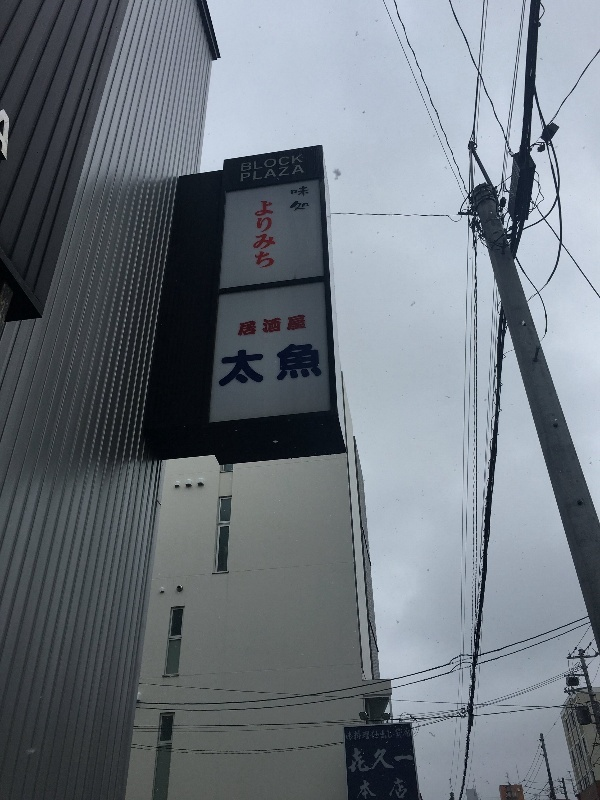text: (257, 195, 272, 273), (1, 102, 16, 159), (225, 336, 240, 391), (241, 336, 256, 391), (257, 336, 272, 391), (273, 336, 288, 391), (289, 336, 304, 391), (305, 336, 320, 391), (241, 310, 256, 341), (257, 310, 272, 341), (273, 310, 288, 341), (289, 310, 304, 341), (353, 745, 368, 776), (369, 745, 384, 776), (385, 745, 400, 776), (290, 183, 304, 216), (401, 745, 414, 776), (241, 152, 256, 176), (257, 152, 272, 176), (273, 152, 288, 176), (289, 152, 304, 176), (369, 776, 384, 800), (385, 776, 400, 800), (241, 165, 256, 186), (257, 165, 272, 186), (273, 165, 288, 186), (289, 165, 304, 186), (353, 726, 368, 743), (369, 726, 384, 743), (385, 726, 400, 743), (273, 195, 276, 273), (321, 336, 325, 391), (305, 183, 311, 216), (360, 776, 368, 800), (401, 776, 409, 800), (401, 726, 411, 743), (222, 336, 224, 391), (346, 726, 352, 743), (305, 310, 308, 341), (349, 745, 352, 776), (255, 195, 256, 273), (239, 310, 240, 341), (305, 165, 306, 186)
